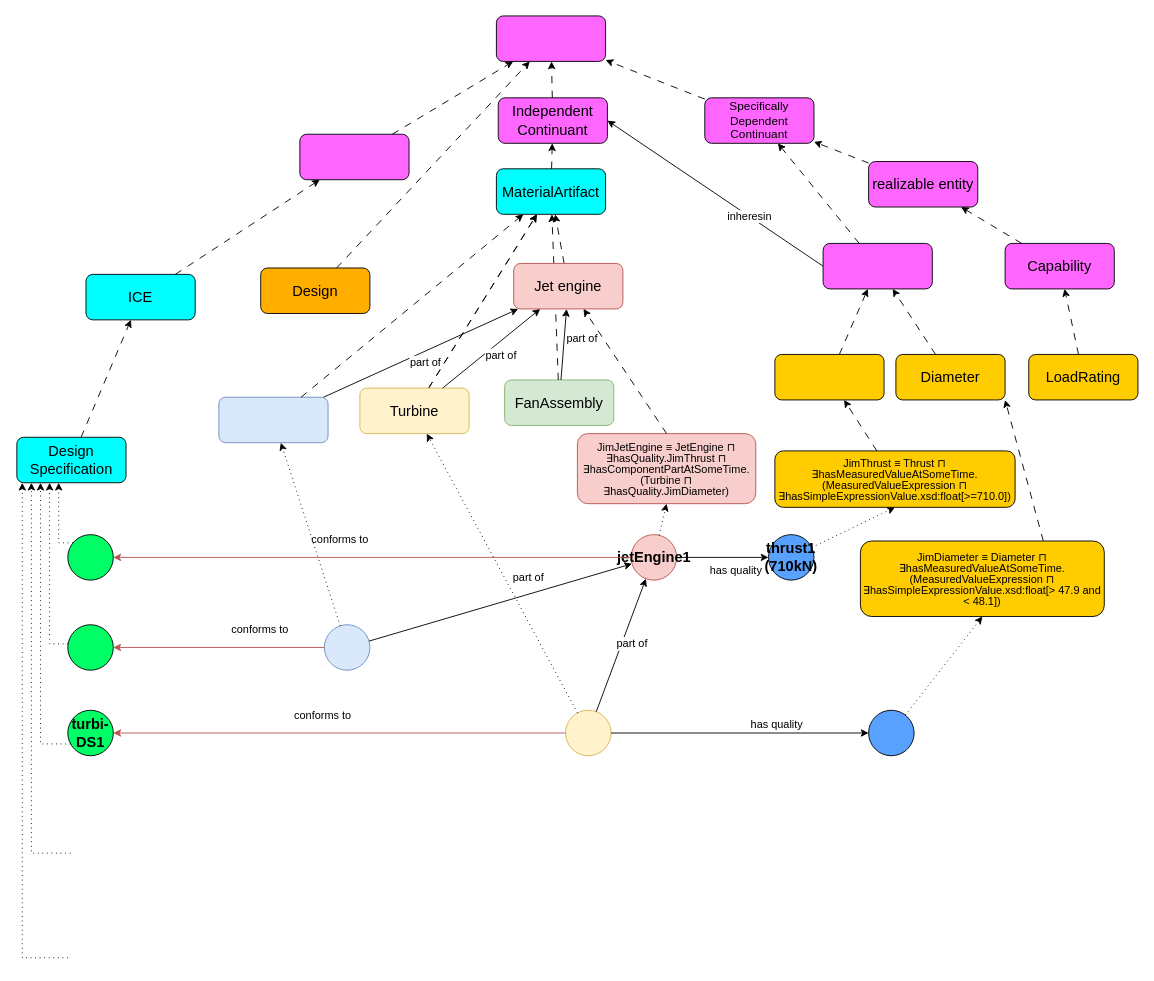
Some shapes in this 1154 by 981 pixel diagram are drawn without their labels. The shapes that lost their labels are listed below. From the top down, each one's centre as x and y in pixels, then its label:
(x=550, y=38): Continuant
(x=354, y=156): Generically Dependent Continuant
(x=877, y=266): Quality
(x=829, y=377): Thrust
(x=273, y=419): Compressor
(x=90, y=557): jimJetSpec1
(x=90, y=647): comp-DS1
(x=347, y=647): comp1
(x=588, y=732): turbine1
(x=891, y=732): diameter1 (47.98 in)
